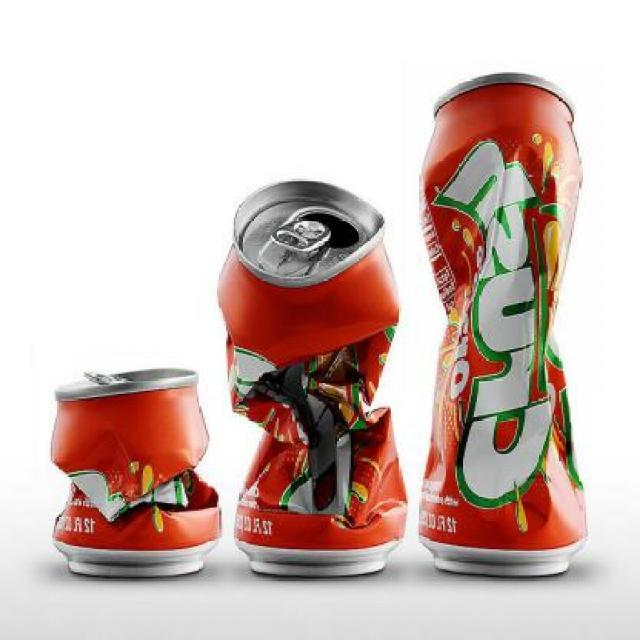can: (412, 49, 596, 594), (224, 131, 408, 580), (33, 310, 219, 582)
